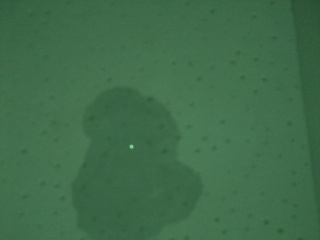Water_detected: (94, 104, 180, 204)
